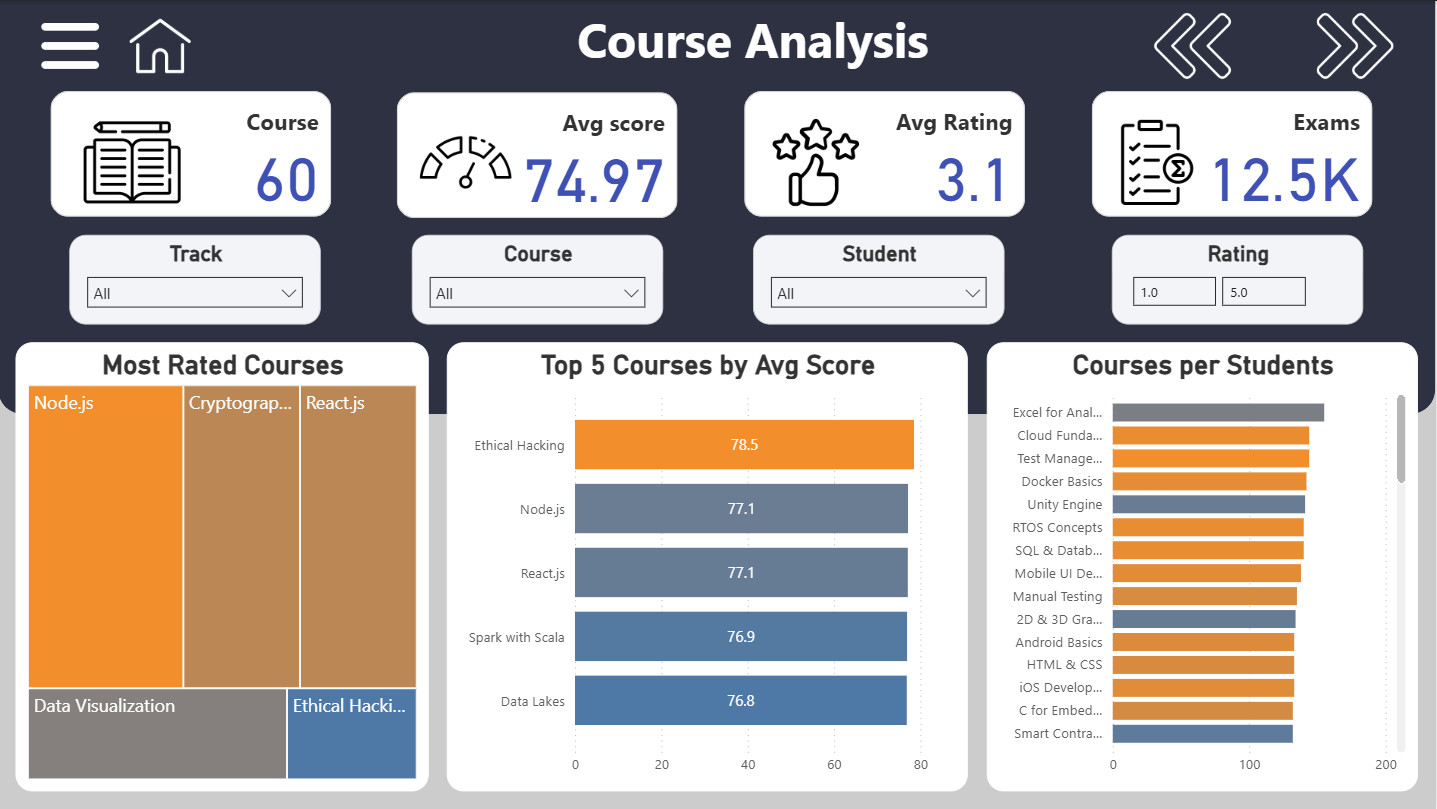

This screenshot's page, from the dashboard's own definition file:
{"tool":"powerbi","page":{"name":"09.Course Analysis","canvas":[1280,720],"ordinal":8},"visuals":[{"type":"shape","box":[0,0,1280,368],"z":0},{"type":"cardVisual","fields":{"Data":["Count(Dim_Courses.Course_SK)"]},"box":[46.2,79.9,250,112],"z":1000},{"type":"cardVisual","fields":{"Data":["Avg(Fact_Exam_Result.Exam_percentage)"]},"box":[355.5,81.8,250,112],"z":2000},{"type":"cardVisual","fields":{"Data":["Avg(Dim_Feedback.InstructorRating)"]},"box":[664.9,79.9,250,112],"z":3000},{"type":"cardVisual","fields":{"Data":["Fact_Exam_Result.Total_Exams_Taken"]},"box":[974.2,79.9,250,112],"z":4000},{"type":"slicer","title":"Student","fields":{"Values":["Dim_student.full_Name"]},"box":[672,208,224,80],"z":5000},{"type":"slicer","title":"Track","fields":{"Values":["Dim_Track.Track_Name"]},"box":[64,208,224,80],"z":6000},{"type":"slicer","title":"Course","fields":{"Values":["Dim_Courses.Course_Name"]},"box":[368,208,224,80],"z":7000},{"type":"slicer","title":"Rating","fields":{"Values":["Dim_Feedback.InstructorRating"]},"box":[992,208,224,80],"z":8000},{"type":"treemap","title":"Most Rated Courses","fields":{"Values":["Sum(Dim_Feedback.InstructorRating)"],"Group":["Dim_Courses.Course_Name"]},"box":[16,304,368,400],"z":9000},{"type":"textbox","box":[464,0,416,80],"z":10000},{"type":"barChart","title":"Courses per Students","fields":{"Category":["Dim_Courses.Course_Name"],"Y":["Count(Fact_Exam_Result.stud_SK_FK)"]},"box":[880,304,384,400],"z":11000},{"type":"barChart","title":"Top 5 Courses by Avg Score","fields":{"Category":["Dim_Courses.Course_Name"],"Y":["Dim_Exam.Avg_Exam_Score"]},"box":[400,304,464,400],"z":12000},{"type":"image","box":[976,96,112,96],"z":13000},{"type":"image","box":[368,96,96,96],"z":14000},{"type":"image","box":[672,96,112,96],"z":15000},{"type":"image","box":[64,96,112,96],"z":16000},{"type":"image","box":[1136,0,144,80],"z":17000},{"type":"image","box":[992,0,144,80],"z":18000},{"type":"image","box":[32,0,64,80],"z":19000},{"type":"image","box":[112,0,64,80],"z":20000}]}

Visuals, with their boxes in screenshot pixels (x1, y1, x2, y2), scaled from the page's 1280x720 canvas onto the 1437x809 screenshot:
shape: <region>0, 0, 1436, 413</region>
cardVisual - Count(Dim_Courses.Course_SK): <region>52, 90, 333, 216</region>
cardVisual - Avg(Fact_Exam_Result.Exam_percentage): <region>399, 92, 680, 218</region>
cardVisual - Avg(Dim_Feedback.InstructorRating): <region>746, 90, 1027, 216</region>
cardVisual - Fact_Exam_Result.Total_Exams_Taken: <region>1094, 90, 1374, 216</region>
"Student" slicer: <region>754, 234, 1006, 324</region>
"Track" slicer: <region>72, 234, 323, 324</region>
"Course" slicer: <region>413, 234, 665, 324</region>
"Rating" slicer: <region>1114, 234, 1365, 324</region>
"Most Rated Courses" treemap: <region>18, 342, 431, 791</region>
textbox: <region>521, 0, 988, 90</region>
"Courses per Students" barChart: <region>988, 342, 1419, 791</region>
"Top 5 Courses by Avg Score" barChart: <region>449, 342, 970, 791</region>
image: <region>1096, 108, 1221, 216</region>
image: <region>413, 108, 521, 216</region>
image: <region>754, 108, 880, 216</region>
image: <region>72, 108, 198, 216</region>
image: <region>1275, 0, 1436, 90</region>
image: <region>1114, 0, 1275, 90</region>
image: <region>36, 0, 108, 90</region>
image: <region>126, 0, 198, 90</region>
